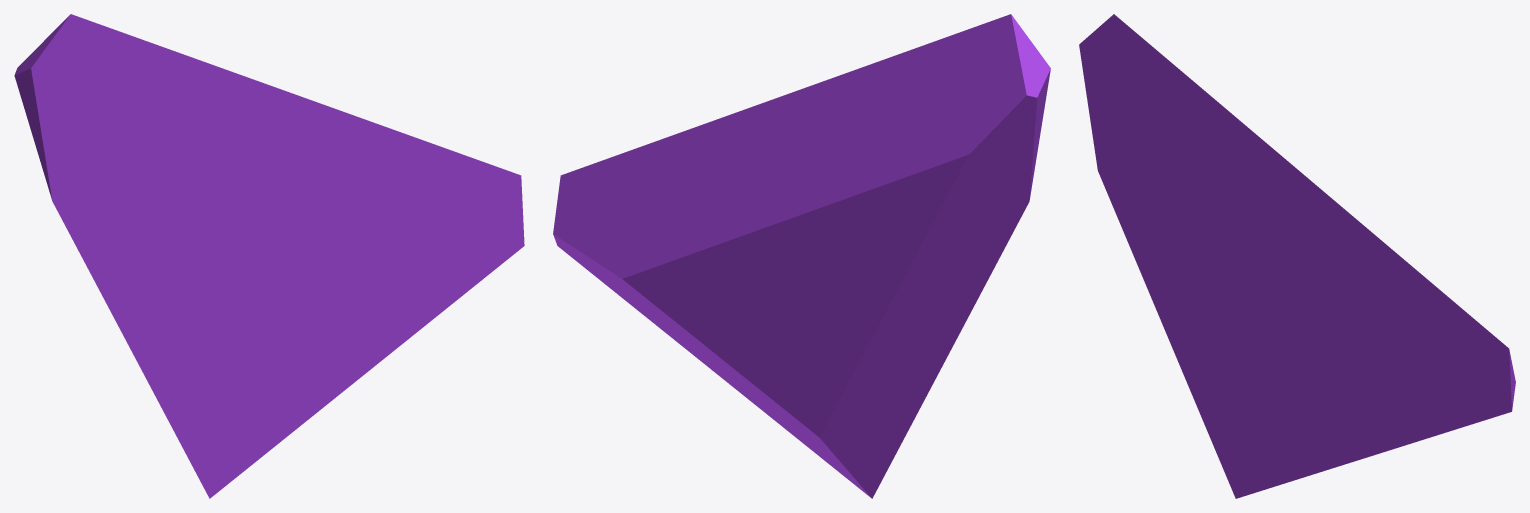
The model's file is Glass_83_1_24_chunks.fbx.
The picture shows the model from 3 angles, left to right: view 1: azimuth 30°, elevation 25°; view 2: azimuth 150°, elevation 25°; view 3: azimuth 330°, elevation 25°; orthographic projection. The views are drawn at different scales.
Parts seen in each view (by area): view 1: Glass_83_1_24_0; view 2: Glass_83_1_24_0; view 3: Glass_83_1_24_0.
Boxes of the visible parts, bbox=[...] form: Glass_83_1_24_0: bbox=[14, 14, 524, 498]; Glass_83_1_24_0: bbox=[553, 14, 1050, 498]; Glass_83_1_24_0: bbox=[1079, 14, 1515, 498].
Size of the model in its own units: 285 by 285 by 27.2.
